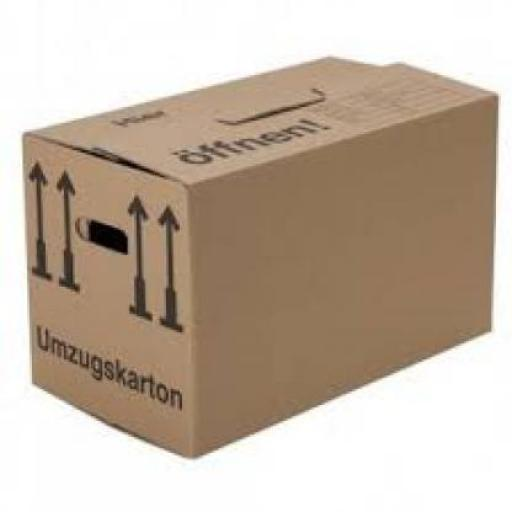cardboard: (18, 54, 496, 458)
